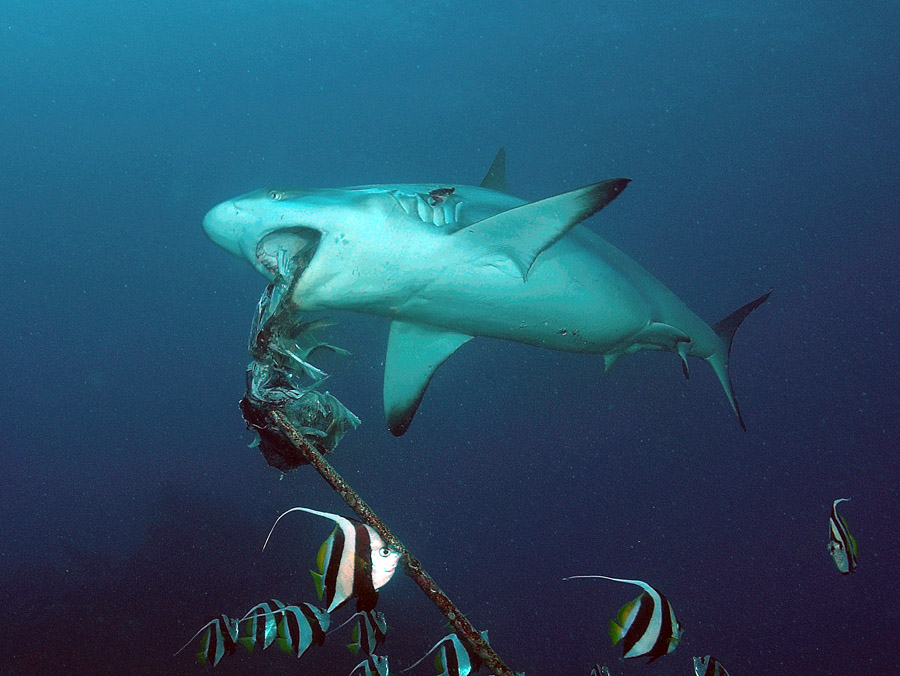Carcharhinus_amblyrhynchos: (186, 146, 780, 434)
